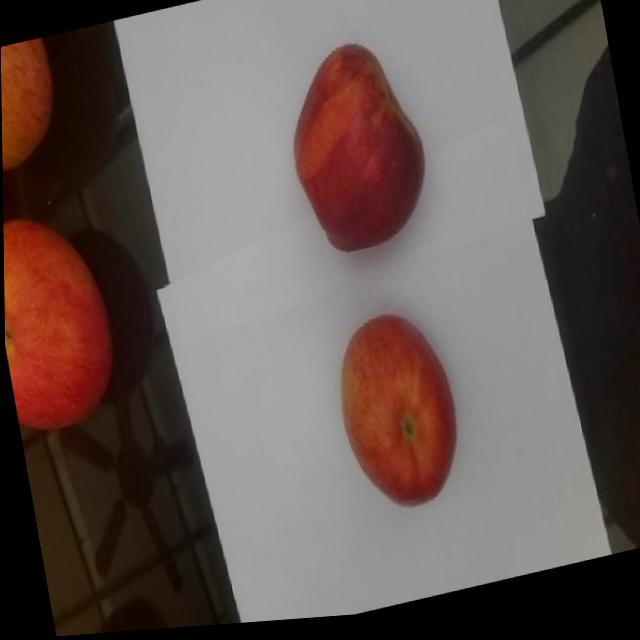Apple: (274, 34, 437, 268), (325, 306, 468, 525), (2, 200, 124, 439), (0, 35, 66, 176)
